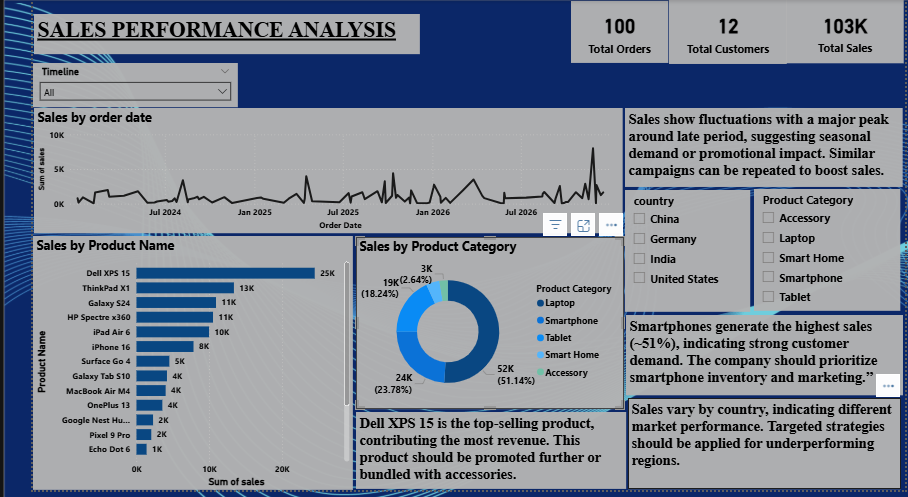

The dashboard page shown, as its layout file describes it:
{"tool":"powerbi","page":{"name":"Page 1","canvas":[1280,720],"ordinal":0},"visuals":[{"type":"clusteredBarChart","title":" Sales by Product Name","fields":{"Category":["orders.product_name"],"Y":["Sum(orders.sales)"]},"box":[0,346.8,470.2,373.2],"z":0},{"type":"donutChart","title":"Sales by Product Category","fields":{"Category":["orders.product_category"],"Y":["Sum(orders.sales)"]},"box":[474.6,348.2,393.8,252.7],"z":1000},{"type":"card","fields":{"Values":["CountNonNull(orders.order_id)"]},"box":[790.5,1.5,142.5,91.1],"z":2000},{"type":"card","fields":{"Values":["Count(orders.customer_id)"]},"box":[934.5,0,173.4,94],"z":3000},{"type":"card","fields":{"Values":["Sum(orders.sales)"]},"box":[1106.4,0,173.4,92.6],"z":4000},{"type":"lineChart","title":"Sales by order date","fields":{"Category":["orders.order_date"],"Y":["Sum(orders.sales)"]},"box":[1.5,158.7,865.5,183.7],"z":5000},{"type":"slicer","fields":{"Values":["customers.country"]},"box":[869.9,279.2,183.7,179.3],"z":6000},{"type":"slicer","fields":{"Values":["orders.product_category"]},"box":[1059.4,277.7,214.5,179.3],"z":7000},{"type":"textbox","box":[1.5,20.6,567.2,58.8],"z":8000},{"type":"slicer","fields":{"Values":["orders.order_date"]},"box":[0,92.6,301.2,64.7],"z":9000},{"type":"textbox","box":[869.9,158.7,408.5,116.1],"z":10000},{"type":"textbox","box":[474.6,605.4,396.7,113.1],"z":11000},{"type":"textbox","box":[871.3,462.9,407,117.6],"z":12000},{"type":"textbox","box":[874.3,584.8,401.1,133.7],"z":13000}]}

Visuals, with their boxes in screenshot pixels (x1, y1, x2, y2), scaled from the page's 1280x720 canvas onto the 908x497 screenshot:
" Sales by Product Name" clusteredBarChart: <bbox>0, 239, 334, 496</bbox>
"Sales by Product Category" donutChart: <bbox>337, 240, 616, 415</bbox>
card - CountNonNull(orders.order_id): <bbox>561, 1, 662, 64</bbox>
card - Count(orders.customer_id): <bbox>663, 0, 786, 65</bbox>
card - Sum(orders.sales): <bbox>785, 0, 907, 64</bbox>
"Sales by order date" lineChart: <bbox>1, 110, 615, 236</bbox>
slicer - customers.country: <bbox>617, 193, 747, 316</bbox>
slicer - orders.product_category: <bbox>752, 192, 904, 315</bbox>
textbox: <bbox>1, 14, 403, 55</bbox>
slicer - orders.order_date: <bbox>0, 64, 214, 109</bbox>
textbox: <bbox>617, 110, 907, 190</bbox>
textbox: <bbox>337, 418, 618, 496</bbox>
textbox: <bbox>618, 320, 907, 401</bbox>
textbox: <bbox>620, 404, 905, 496</bbox>
